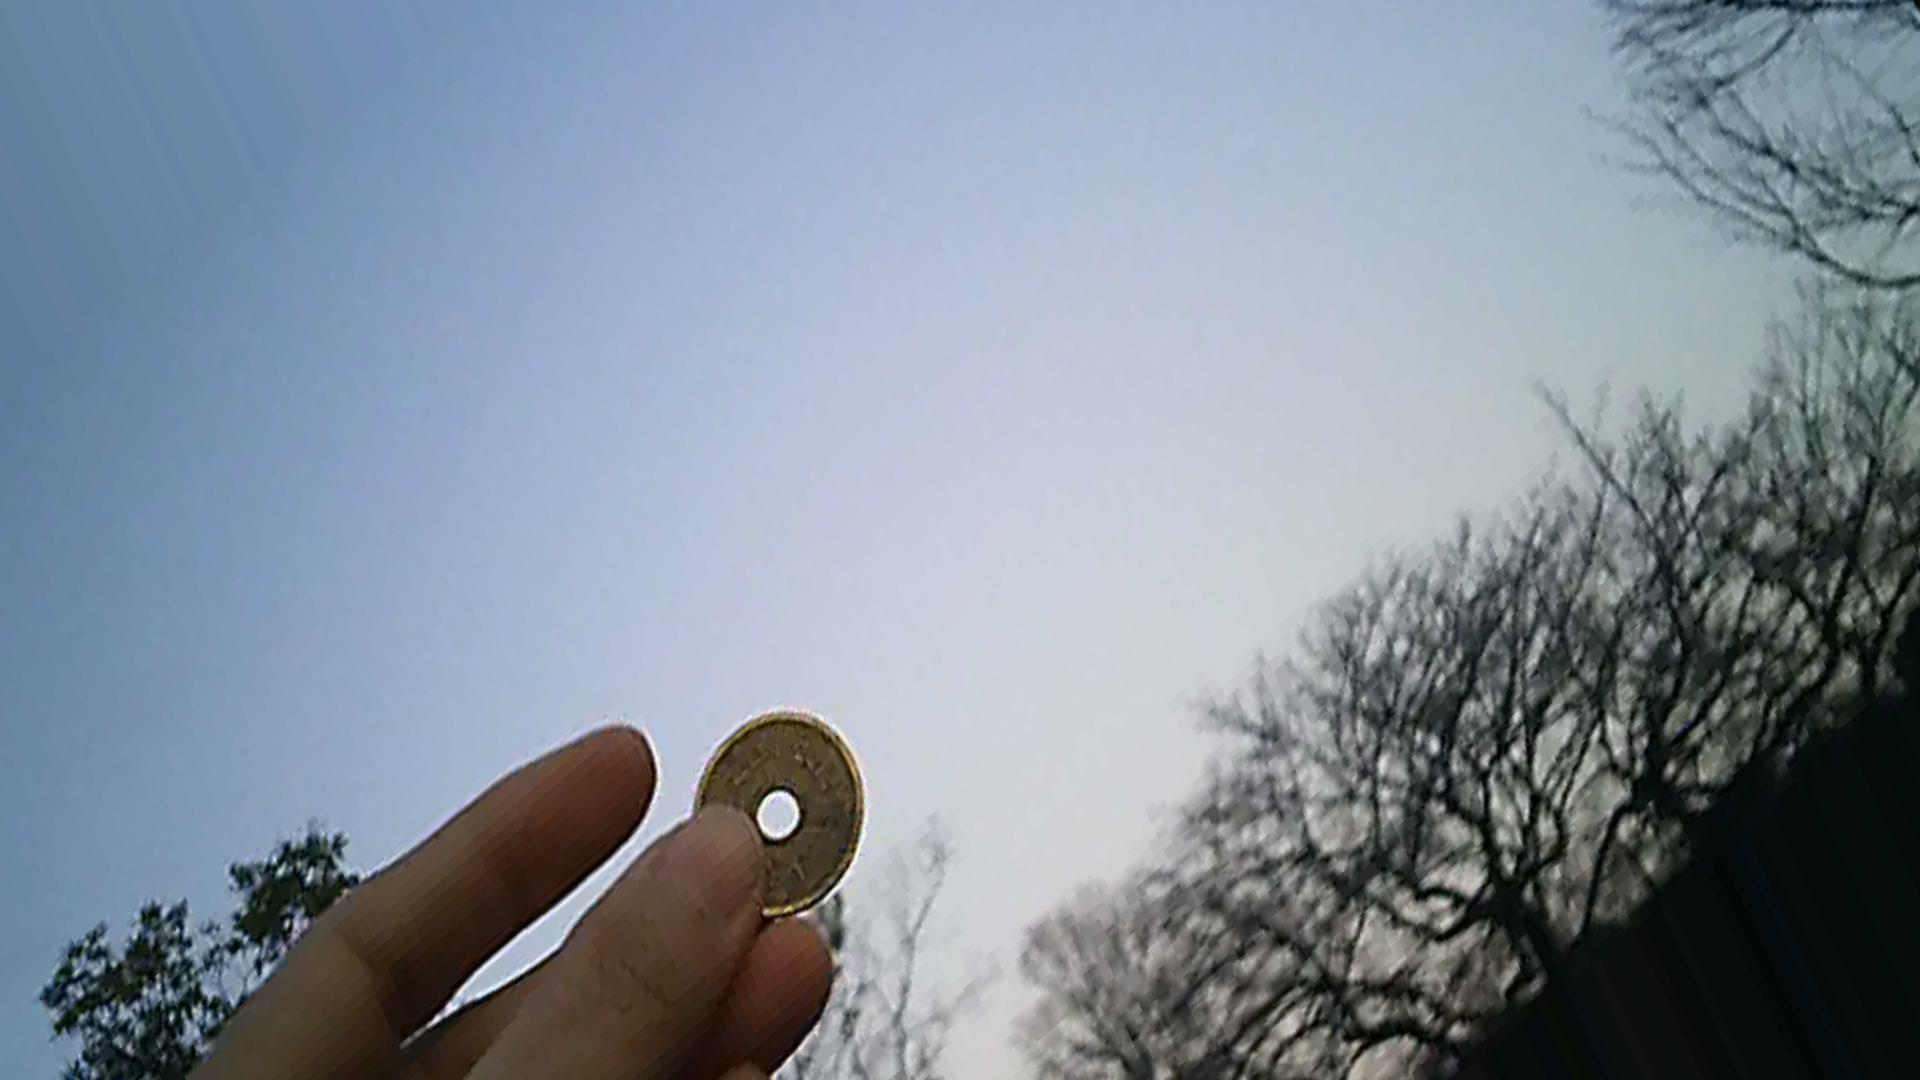5 Yen: (684, 702, 874, 926)
